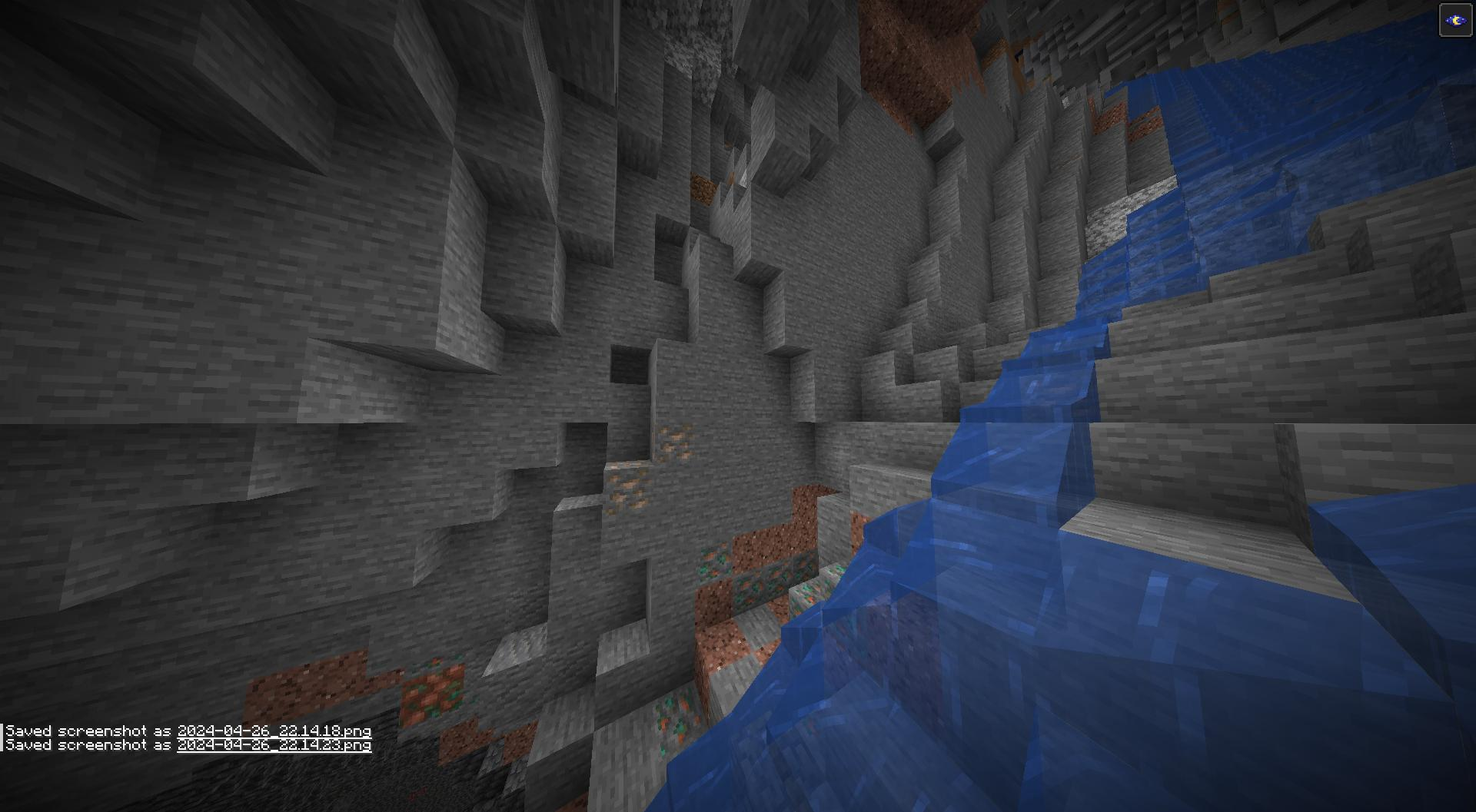iron ore: (596, 462, 657, 515), (646, 414, 695, 458)
